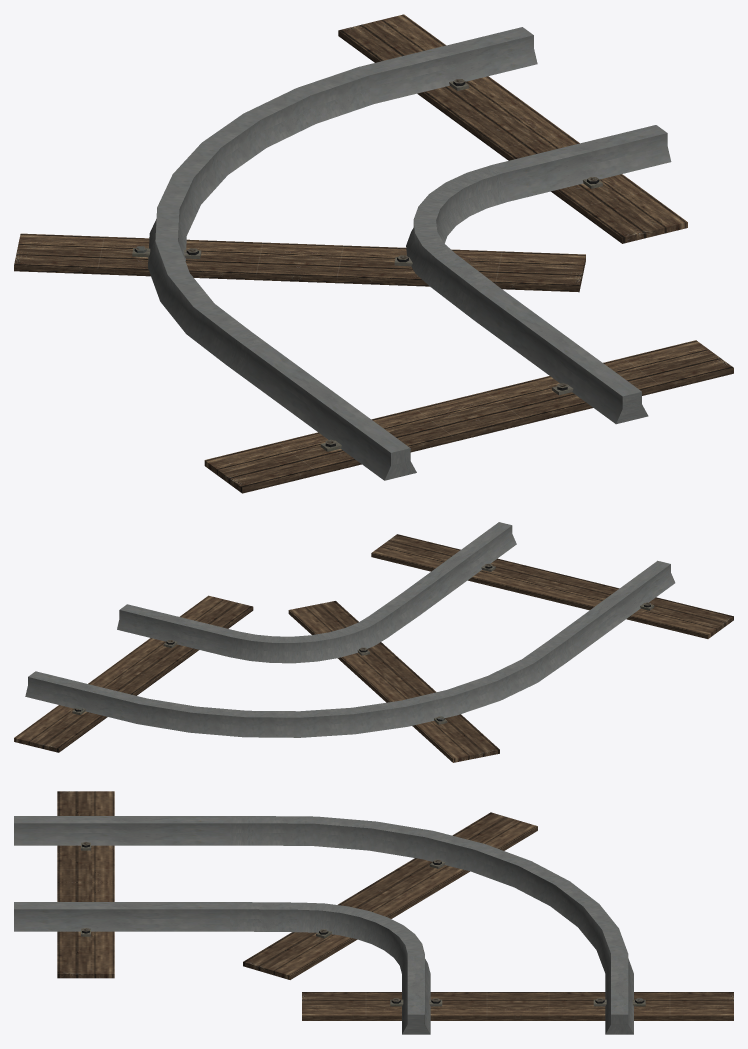
File: trilho-curva.fbx
3 renders of one model, top to bottom at view 1: azimuth 30°, elevation 25°; view 2: azimuth 150°, elevation 25°; view 3: azimuth 270°, elevation 25°, orthographic. The views are drawn at different scales.
Visible parts, largest first — view 1: Cube.006; view 2: Cube.006; view 3: Cube.006.
Part boxes in pixels (x1,y1,x2,y2): Cube.006: (14, 14, 733, 493); Cube.006: (14, 522, 733, 762); Cube.006: (14, 791, 733, 1034).
Bounding box in the file's own units: 4 × 0.1871 × 5.
1 material, 1 textured.
